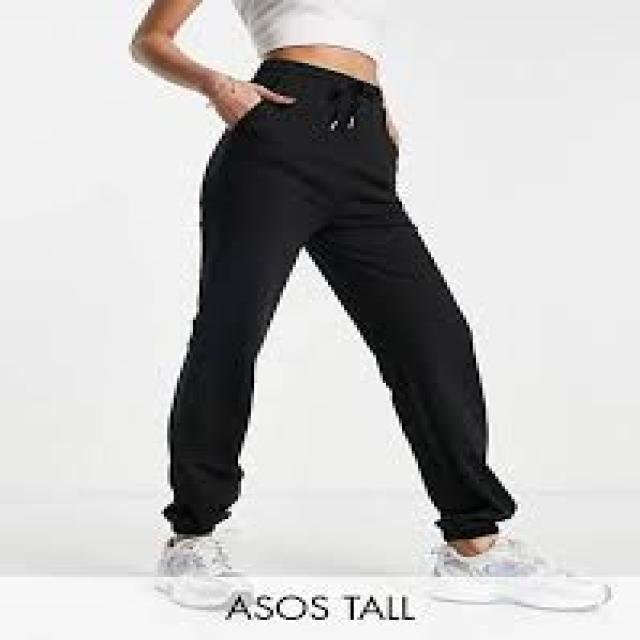pants: (150, 54, 526, 540)
